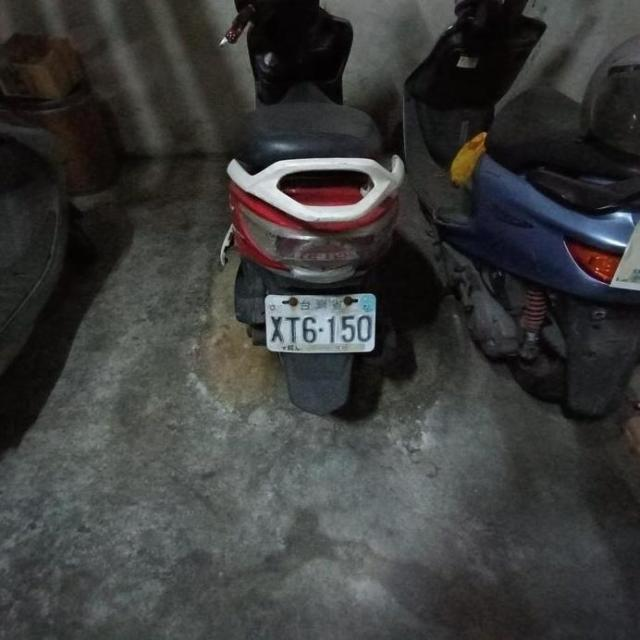W: (263, 285, 378, 357)
